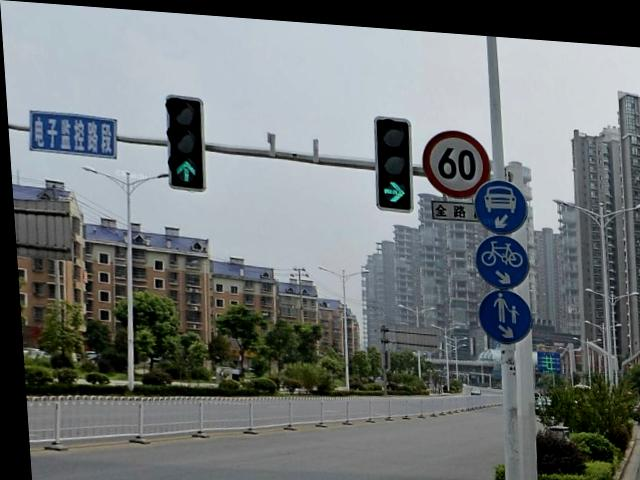limit60: (420, 121, 492, 191)
